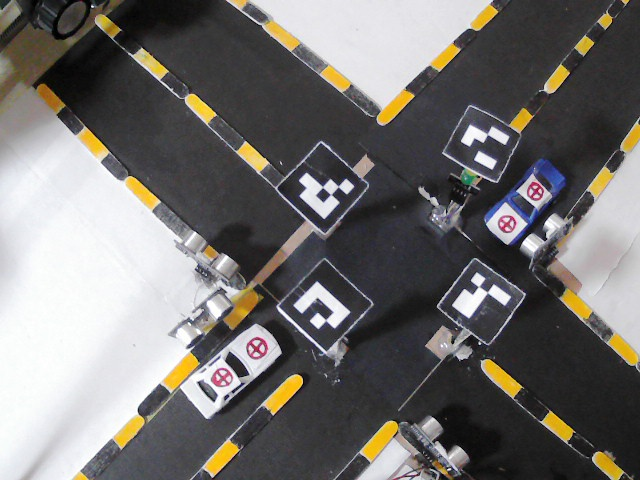aruco_marker: (278, 258, 374, 352), (277, 141, 369, 236), (437, 257, 525, 344), (443, 104, 521, 180)
emergency_vehicle: (177, 326, 286, 420), (483, 158, 570, 248)
traffic_light: (449, 164, 481, 210)
uno_breadboard: (166, 286, 232, 349), (410, 418, 471, 479), (177, 228, 240, 286), (521, 212, 574, 268)
